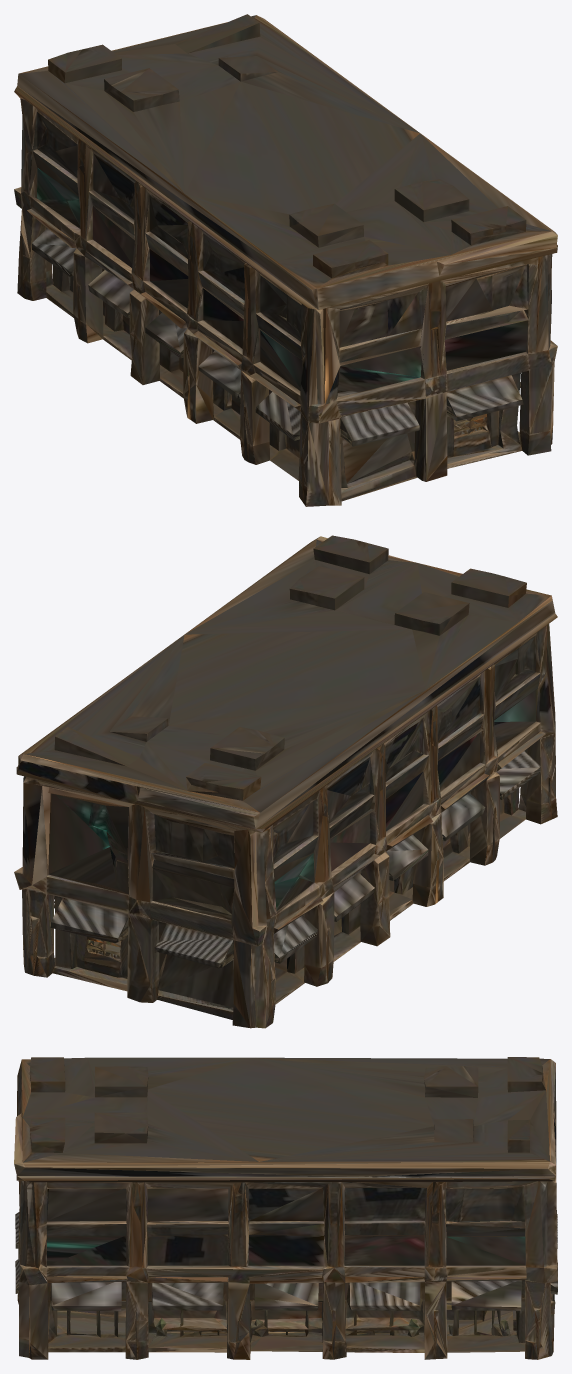
The picture shows the model from 3 angles, top to bottom: view 1: azimuth 30°, elevation 25°; view 2: azimuth 150°, elevation 25°; view 3: azimuth 270°, elevation 25°; orthographic projection. The views are drawn at different scales.
Parts seen in each view (by area): view 1: s01; view 2: s01; view 3: s01.
Boxes of the visible parts, bbox=[...] form: s01: bbox=[14, 14, 557, 506]; s01: bbox=[14, 535, 557, 1028]; s01: bbox=[14, 1057, 557, 1359].
Size of the model in its own units: 13.29 by 11.98 by 27.69.
1 material, 1 textured.
